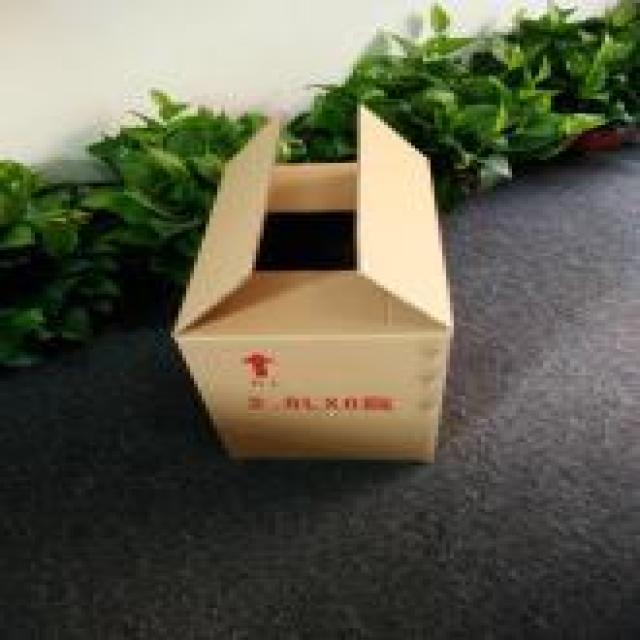cardboard: (178, 111, 460, 469)
